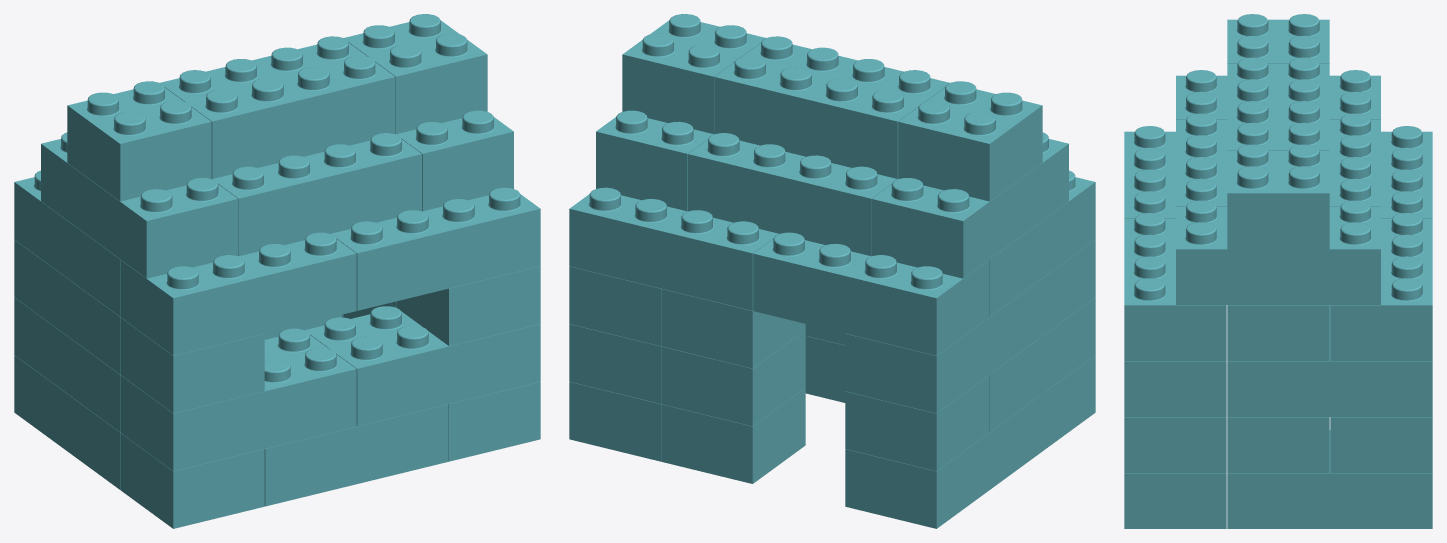
Rendered from lego_game_house.gltf.
3 views of the same model, side by side, from view 1: azimuth 30°, elevation 25°; view 2: azimuth 150°, elevation 25°; view 3: azimuth 270°, elevation 25° (orthographic). The views are drawn at different scales.
Visible parts, largest first — view 1: Part.15, Part.3, Part.1, Part.4, Part.2, Part.13, Part.12, Part.27, Part.0, Part.20, Part.19, Part.17 (+9 smaller); view 2: Part.15, Part.10, Part.9, Part.14, Part.12, Part.27, Part.6, Part.5, Part.20, Part.22, Part.29, Part.28 (+12 smaller); view 3: Part.11, Part.7, Part.8, Part.20, Part.4, Part.9, Part.15, Part.2, Part.16, Part.18, Part.24, Part.25 (+7 smaller).
Part boxes in pixels (x1,y1,x2,y2): Part.15: (160, 36, 395, 178); Part.3: (120, 232, 356, 355); Part.1: (120, 328, 356, 470); Part.4: (331, 187, 540, 310); Part.2: (305, 306, 540, 426); Part.13: (212, 133, 421, 255); Part.12: (41, 132, 238, 278); Part.27: (67, 81, 211, 201); Part.0: (264, 404, 448, 506); Part.20: (343, 14, 487, 133); Part.19: (120, 317, 264, 413); Part.17: (120, 433, 264, 528); Part.15: (714, 36, 949, 178); Part.10: (753, 232, 989, 355); Part.9: (569, 187, 778, 310); Part.14: (688, 133, 897, 255); Part.12: (871, 132, 1068, 278); Part.27: (898, 81, 1042, 201); Part.6: (845, 278, 1042, 413); Part.5: (845, 394, 1042, 528); Part.20: (622, 14, 766, 133); Part.22: (845, 375, 989, 470); Part.29: (661, 330, 805, 426); Part.28: (661, 388, 805, 483); Part.11: (1176, 200, 1380, 304); Part.7: (1227, 430, 1432, 528); Part.8: (1227, 318, 1432, 416); Part.20: (1227, 144, 1329, 249); Part.4: (1124, 213, 1226, 360); Part.9: (1330, 213, 1432, 360); Part.15: (1227, 57, 1329, 150); Part.2: (1124, 417, 1226, 472); Part.16: (1124, 473, 1226, 528); Part.18: (1124, 361, 1226, 416); Part.24: (1227, 417, 1329, 472); Part.25: (1330, 417, 1432, 472).
Size of the model in its own units: 63.92 by 59.38 by 47.92.
